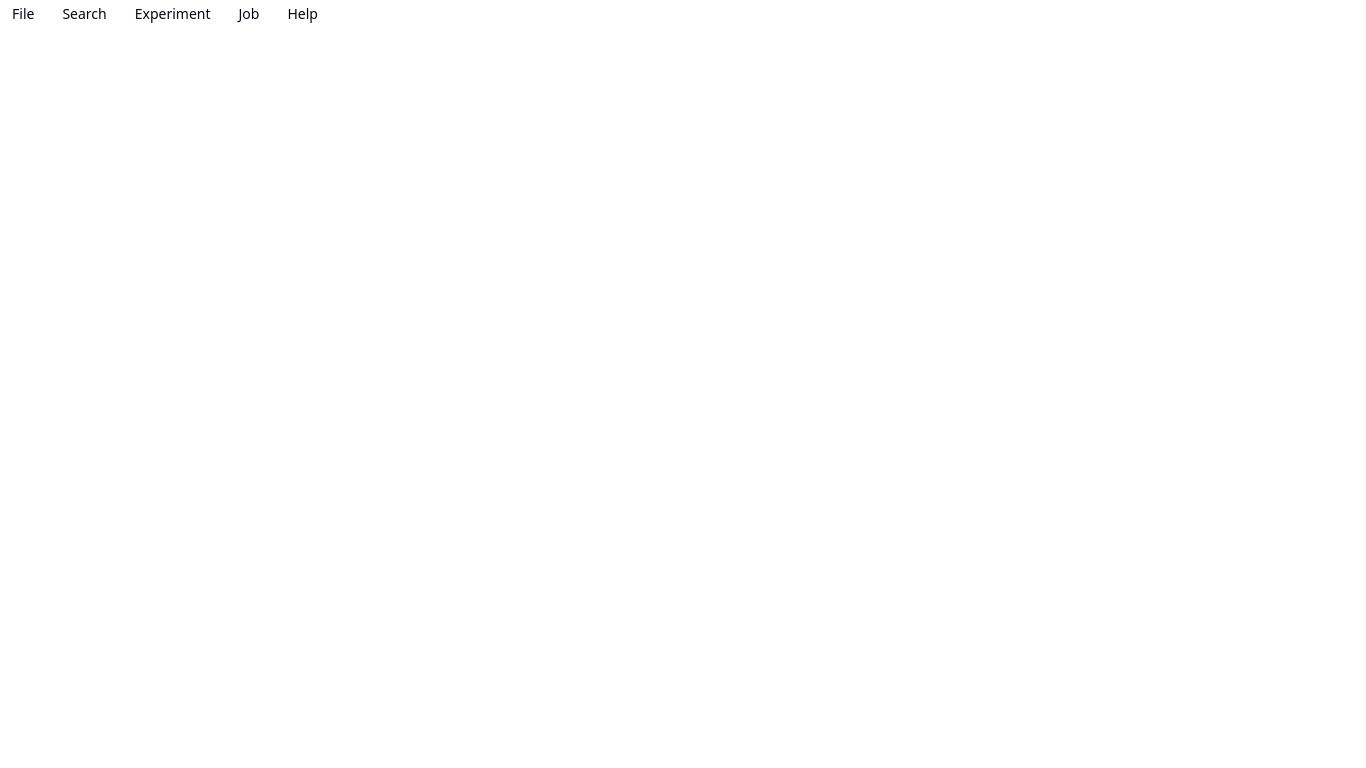
Test: MenuBarActions › opens delete experiment dialog from Experiment menu
What coordinates should you click on to do the following:
click the menu item "Experiment"
I would click on:
 (173, 14)
Its box is top-left (123, 0), bottom-right (222, 28).
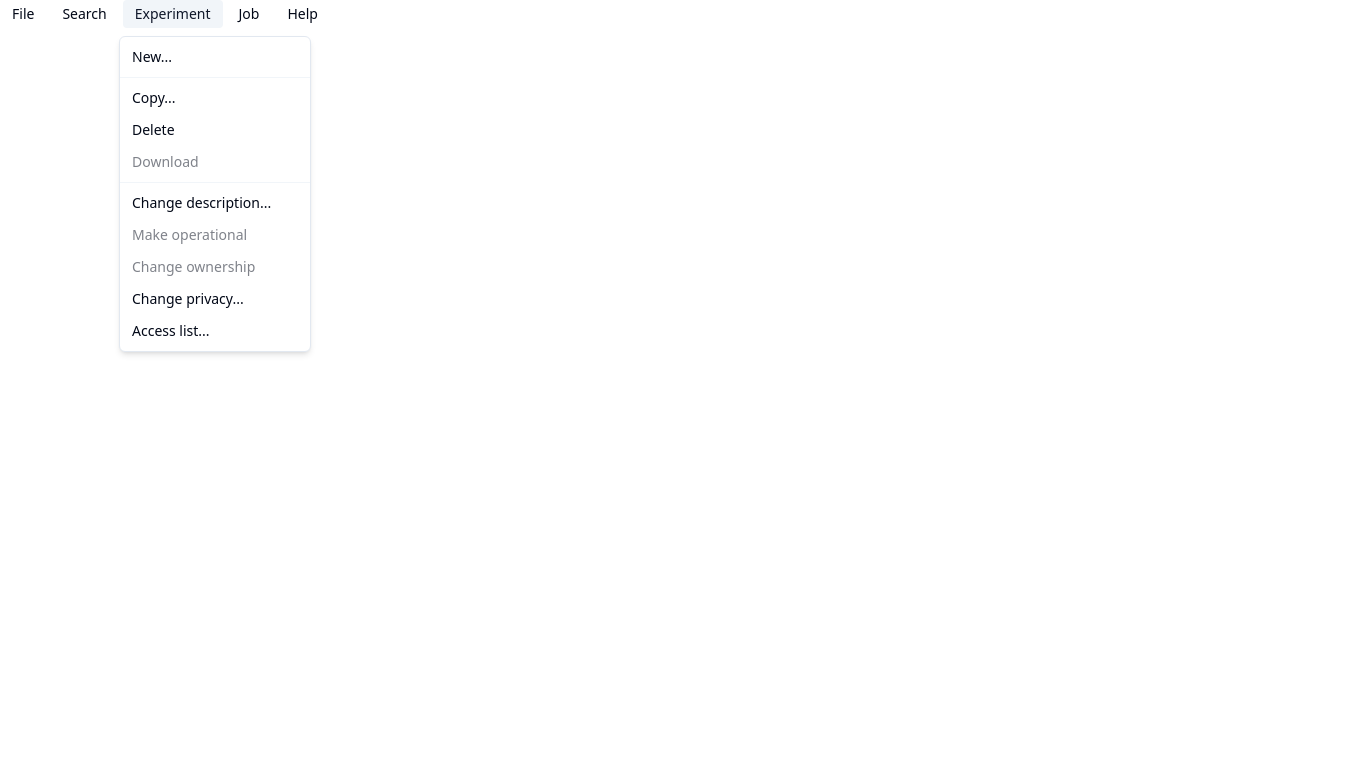
What coordinates should you click on to do the following:
click the menu item "Delete"
I would click on:
 (153, 130)
Its box is top-left (132, 120), bottom-right (175, 139).
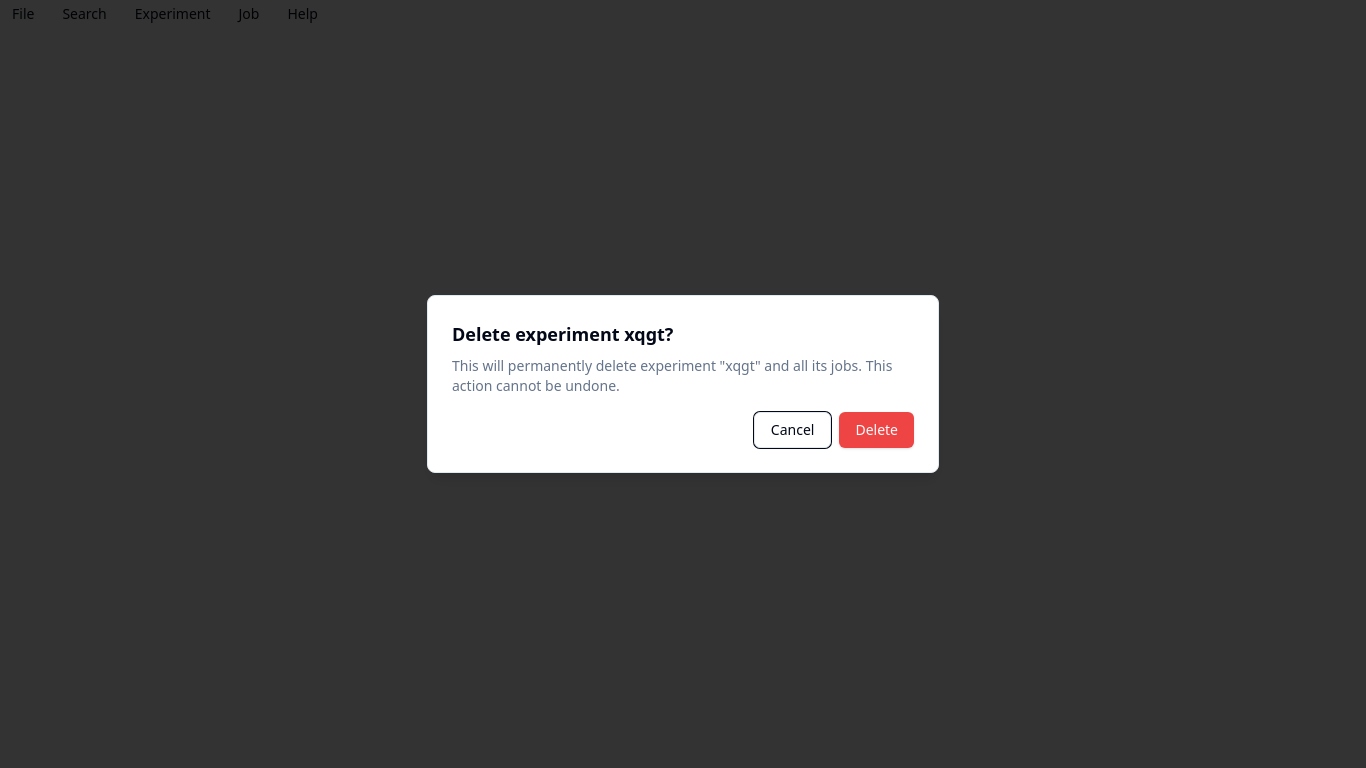
Check: the dialog is shown, box top-left (427, 295), bottom-right (939, 473)
Check: the heading "Delete experiment xqgt?" is shown, box top-left (452, 322), bottom-right (674, 346)
